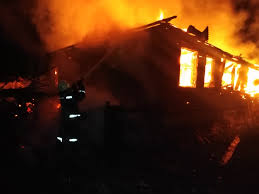fire: (128, 14, 257, 98)
